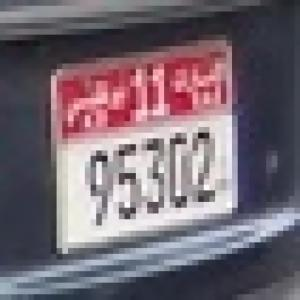Plate: (26, 35, 274, 269)
